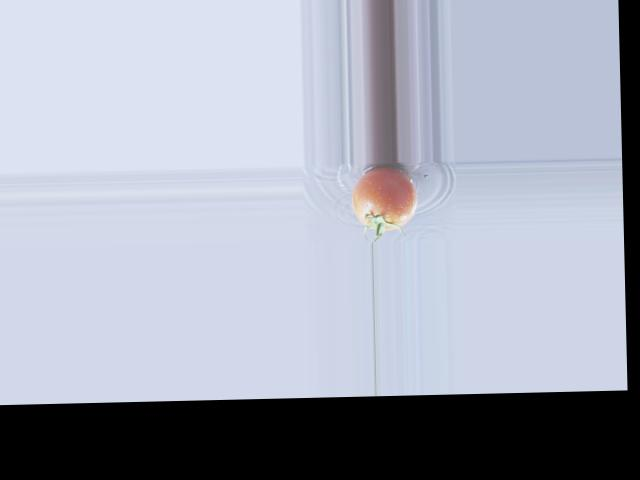tomato: (351, 166, 417, 230)
